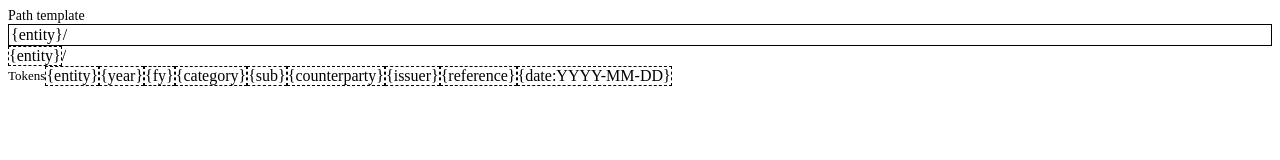
it: TemplateField › offers the nine tokens and inserts one where the caret is
Click the button with aria-label "Insert {counterparty}" at [336, 76], box [287,66,385,86]
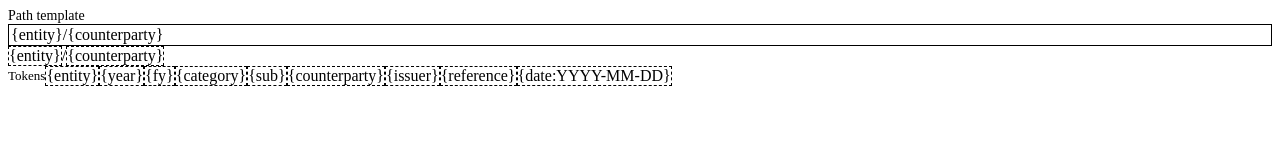
Check: the field labelled "Path template" holds "{entity}/{counterparty}", box [9,25,1271,45]
